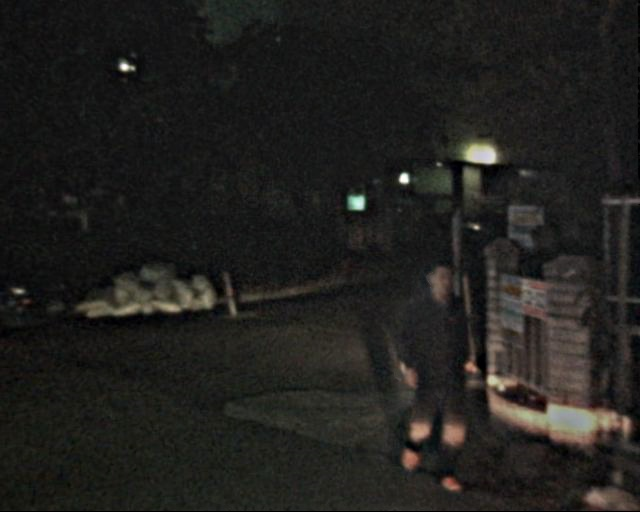person: (381, 255, 475, 480)
